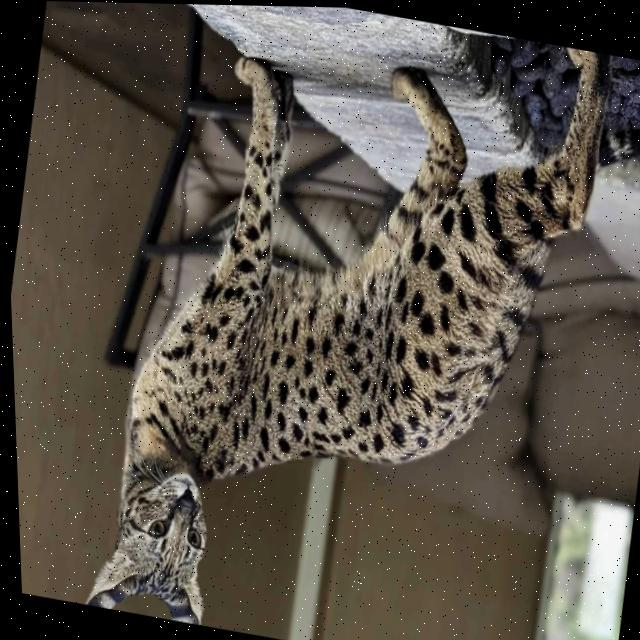Savannah: (60, 1, 634, 640)
